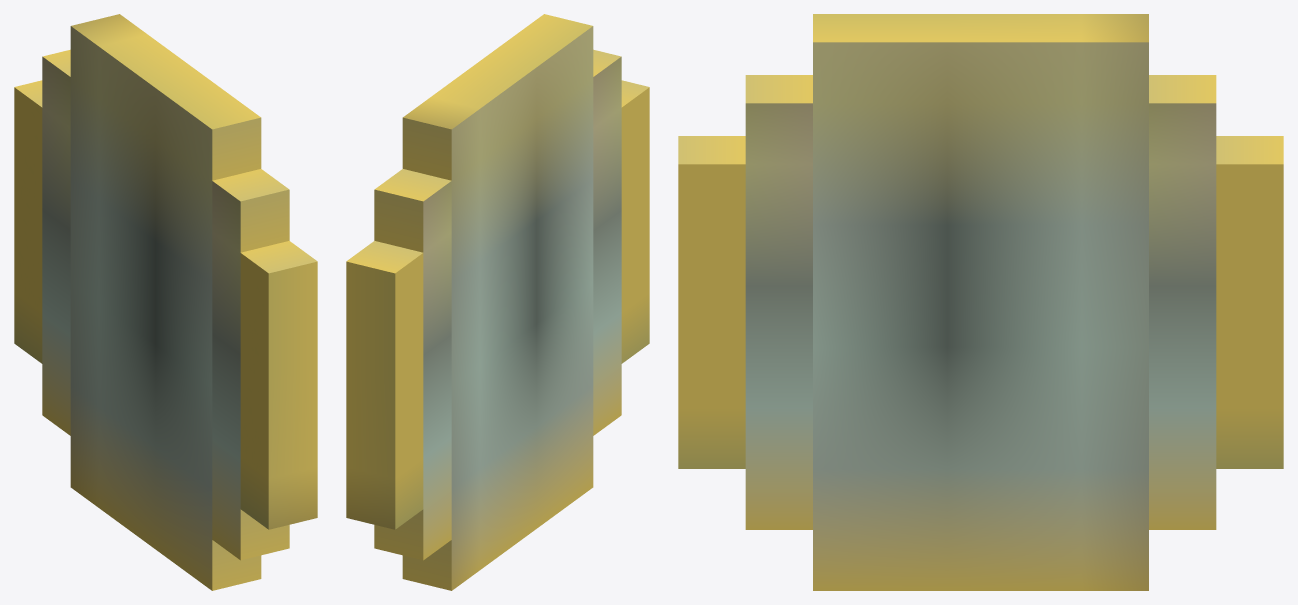
File: ClockYellow_01.fbx
3 renders of one model, left to right at view 1: azimuth 30°, elevation 25°; view 2: azimuth 150°, elevation 25°; view 3: azimuth 270°, elevation 25°, orthographic. The views are drawn at different scales.
Visible parts, largest first — view 1: ClockYellow_01; view 2: ClockYellow_01; view 3: ClockYellow_01.
Boxes of the visible parts, <box> form: ClockYellow_01: <box>14,14,317,590</box>; ClockYellow_01: <box>346,14,649,590</box>; ClockYellow_01: <box>678,14,1283,590</box>.
Bounding box in the file's own units: 5 × 45 × 45.
1 material, 1 textured.
